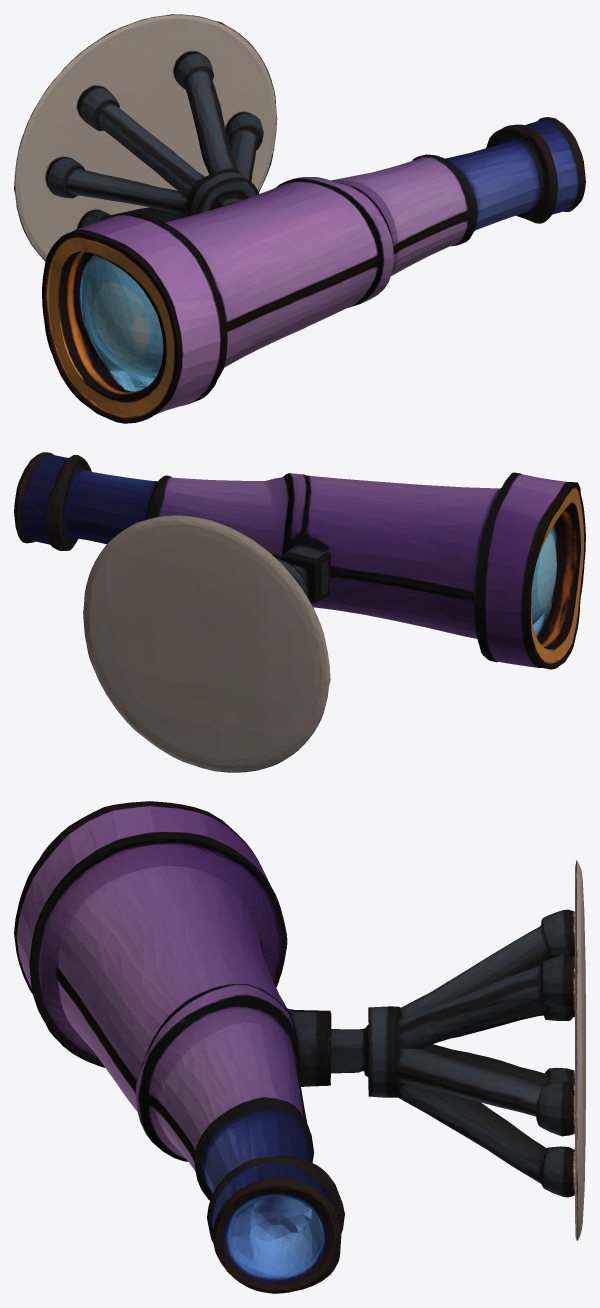
Rendered from Germanio.fbx.
The picture shows the model from 3 angles, top to bottom: view 1: azimuth 30°, elevation 25°; view 2: azimuth 150°, elevation 25°; view 3: azimuth 270°, elevation 25°; orthographic projection. The views are drawn at different scales.
Visible parts, largest first — view 1: geometry_0.001; view 2: geometry_0.001; view 3: geometry_0.001.
Boxes of the visible parts, <box> form: geometry_0.001: <box>14,14,585,423</box>; geometry_0.001: <box>14,452,585,772</box>; geometry_0.001: <box>14,801,585,1293</box>.
Bounding box in the file's own units: 0.4319 × 0.2094 × 0.3158.
Materials: 1 (1 with a texture image).
